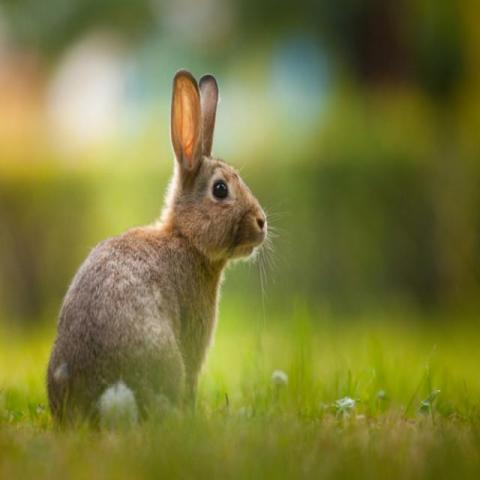small_animal: (43, 67, 276, 433)
